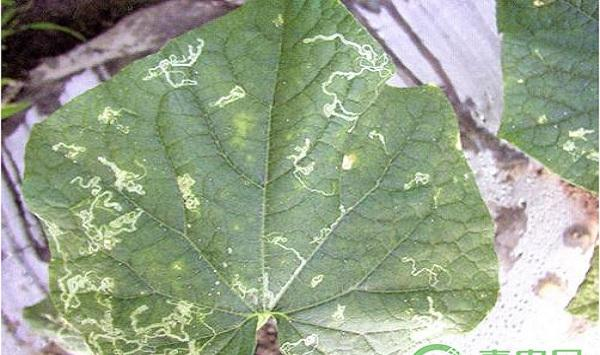liriomyza: (29, 173, 218, 355), (300, 32, 394, 134), (140, 37, 205, 88), (285, 137, 337, 196), (96, 153, 151, 195), (229, 268, 276, 312), (398, 253, 452, 288), (259, 230, 308, 266), (560, 122, 600, 166), (310, 204, 349, 245), (95, 105, 140, 135), (409, 295, 444, 328), (176, 172, 203, 213), (208, 82, 246, 108), (49, 140, 86, 163), (280, 334, 318, 355), (400, 168, 430, 191), (367, 129, 389, 155), (331, 303, 348, 322), (308, 272, 325, 291), (536, 111, 550, 125)
